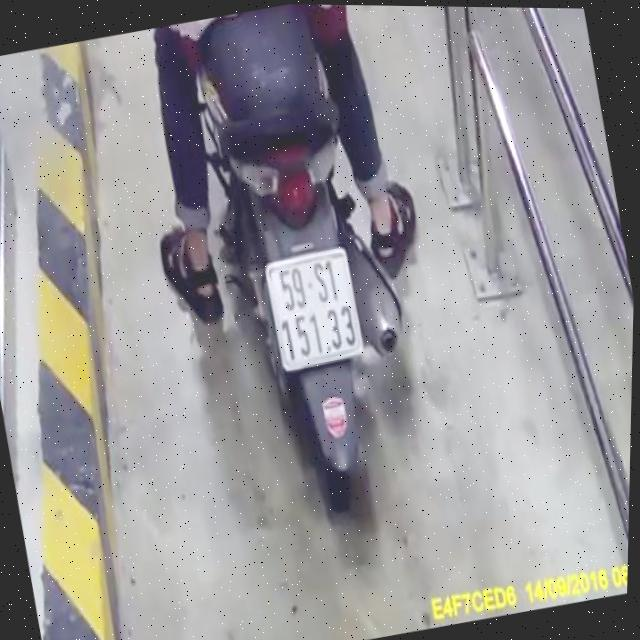motorcycle: (147, 2, 454, 538)
plate: (257, 241, 371, 377)
